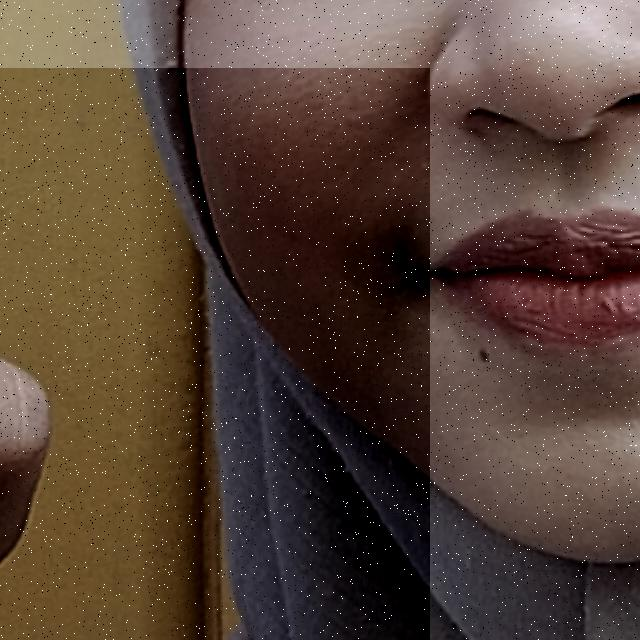baik: (0, 68, 430, 640)
